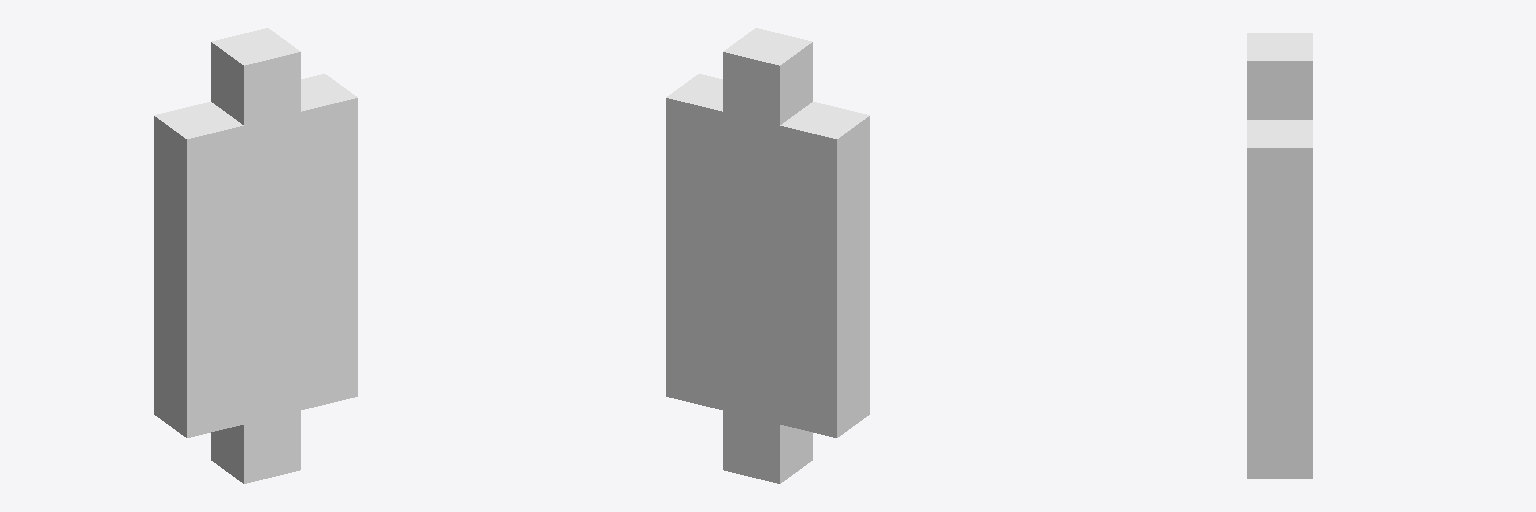
File: Dragon_large-4.obj
3 renders of one model, left to right at view 1: azimuth 30°, elevation 25°; view 2: azimuth 150°, elevation 25°; view 3: azimuth 270°, elevation 25°, orthographic.
Visible parts, largest first — view 1: object 1; view 2: object 1; view 3: object 1.
Part boxes in pixels (bbox=[...]): object 1: bbox=[154, 28, 357, 483]; object 1: bbox=[666, 28, 869, 483]; object 1: bbox=[1247, 33, 1312, 478].
Bounding box in the file's own units: 0.6 × 1.4 × 0.2.